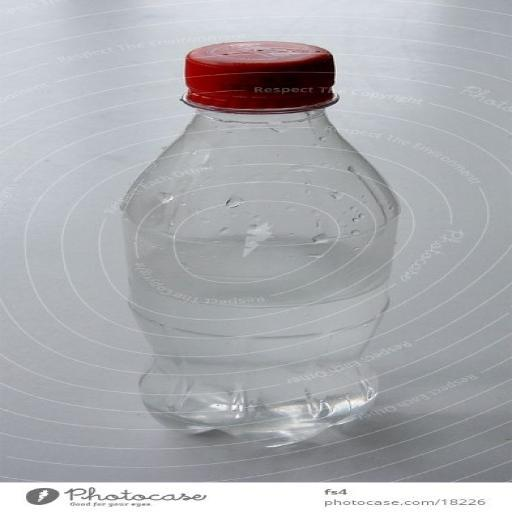bottle: (96, 29, 440, 441)
